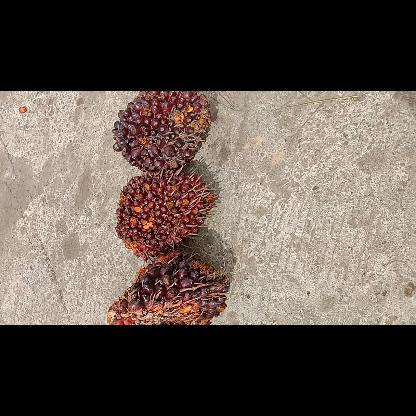Kurang masak: (115, 174, 219, 260), (112, 90, 212, 172)
TBS masak: (107, 254, 229, 324)
